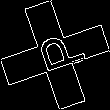P_W: (25, 29, 85, 81)
